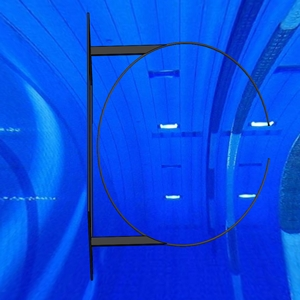circle: (84, 11, 272, 283)
